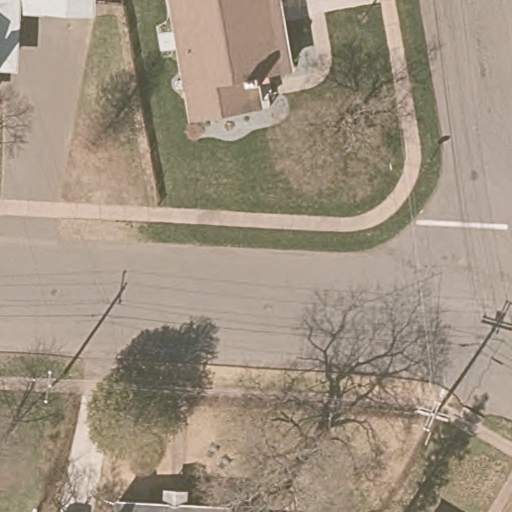DT: (416, 392, 453, 432), (42, 369, 63, 404)
